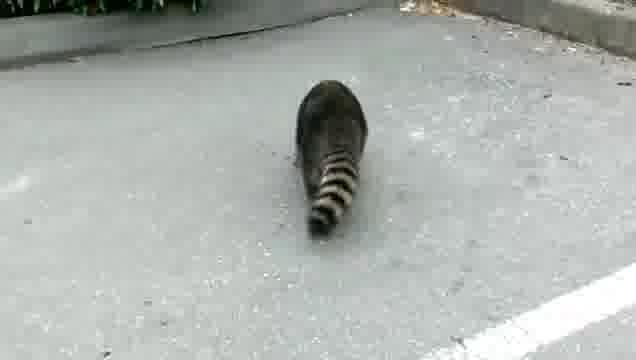raccoon: (295, 77, 370, 241)
